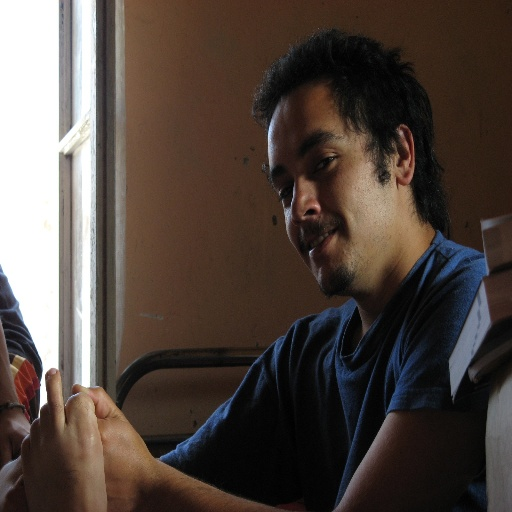hand: (10, 372, 117, 497), (0, 404, 32, 468)
